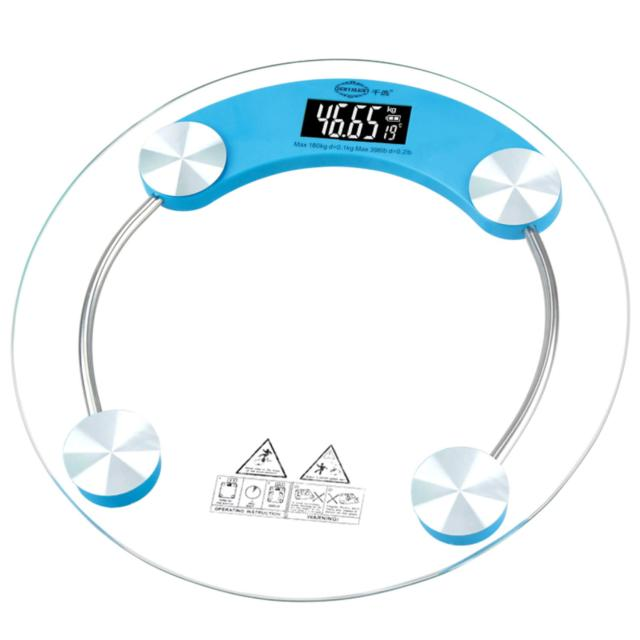.: (342, 133, 346, 138)
1: (383, 123, 389, 142)
4: (318, 102, 329, 136)
5: (367, 104, 382, 142)
6: (328, 102, 348, 140), (348, 102, 366, 140)
9: (389, 124, 398, 142)
screen: (302, 96, 410, 144)
